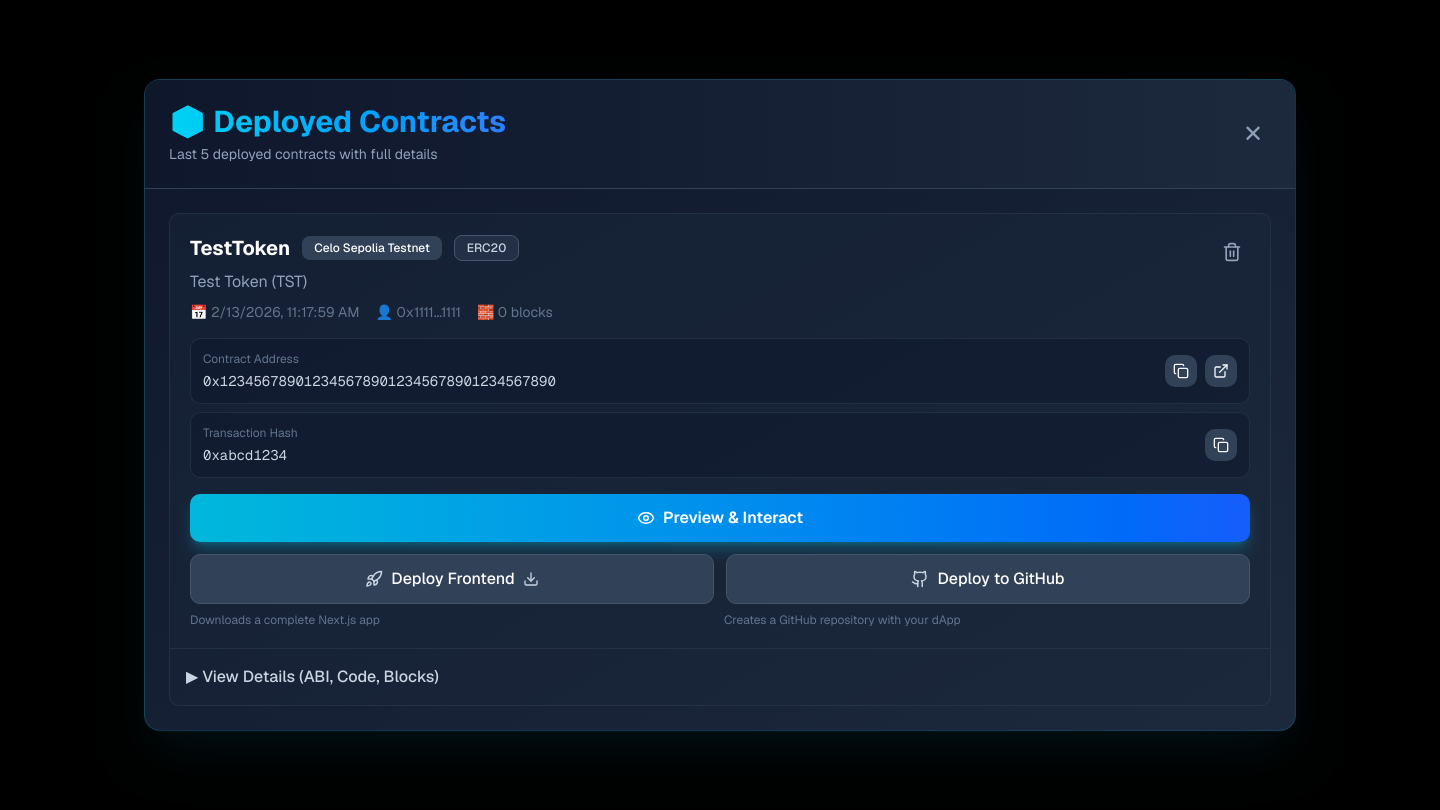
Scenario: ProjectManager › can expand contract details
What coordinates should you click on to do the following:
click the button "▶ View Details (ABI, Code, Blocks)"
I would click on:
 (319, 676)
Its box is [170, 649, 1270, 705].
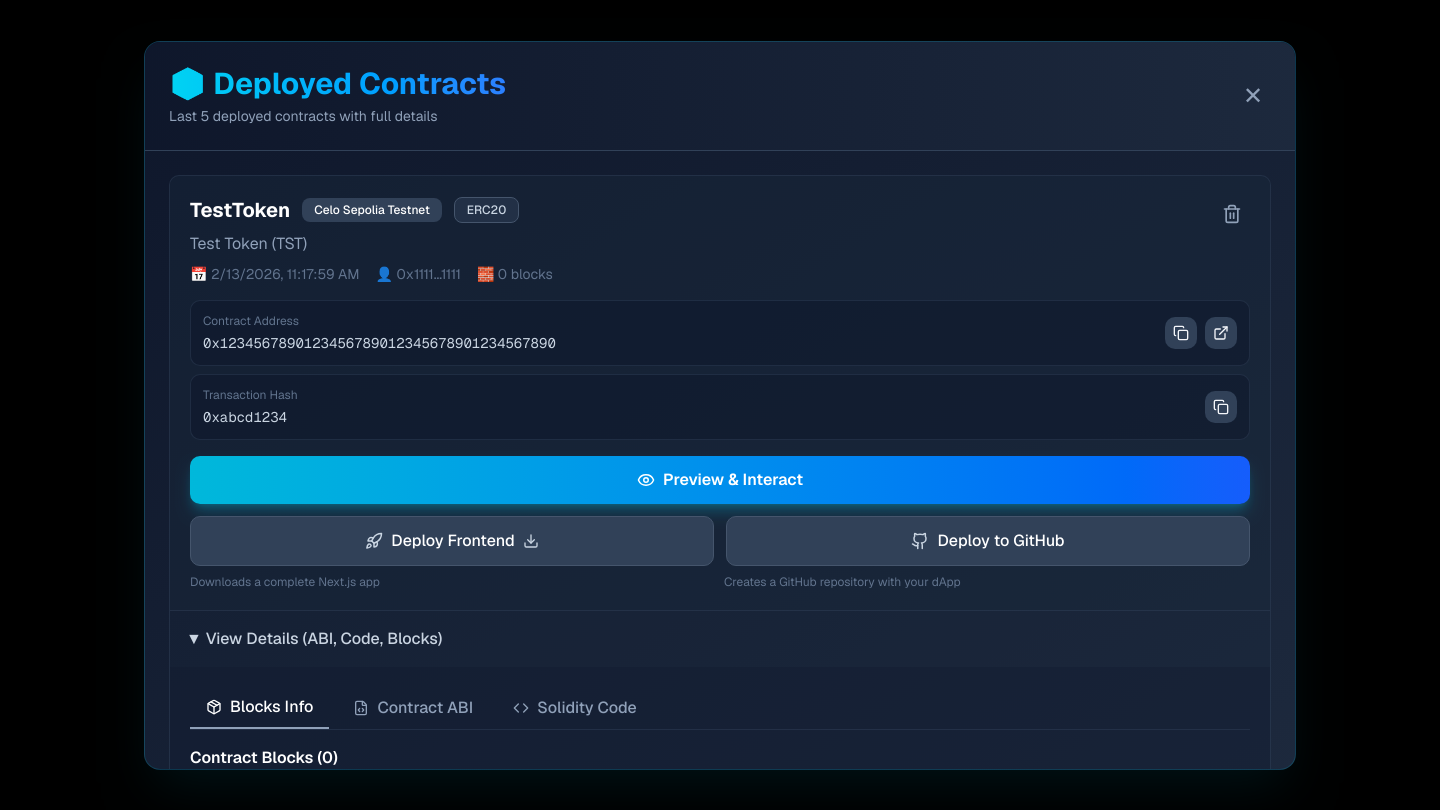
Result: the button "Blocks Info" is shown at [190, 686, 330, 728]
